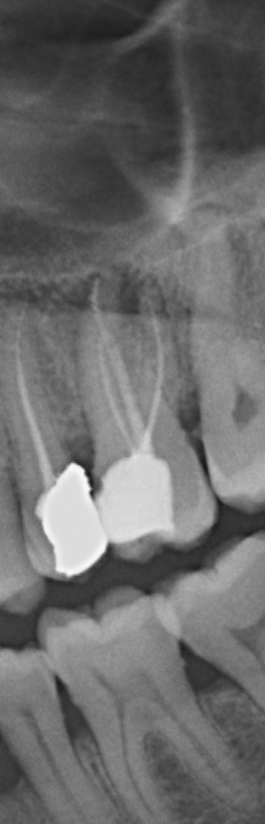fracture: (90, 277, 106, 341)
